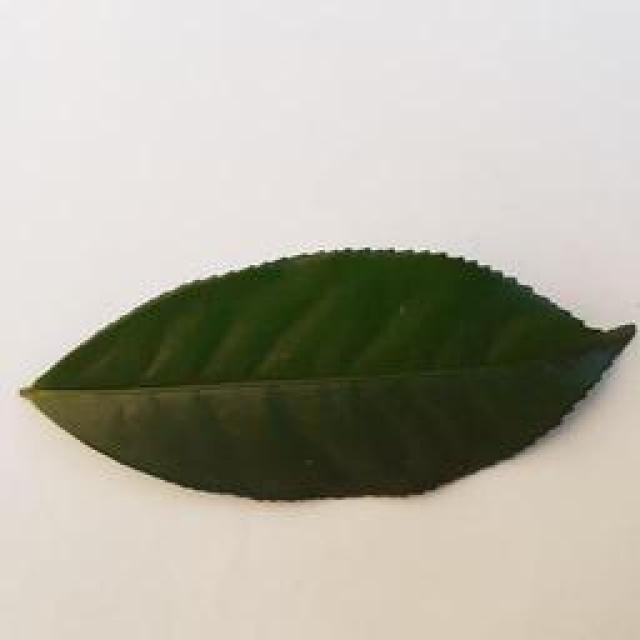Healthy: (10, 216, 640, 522)
